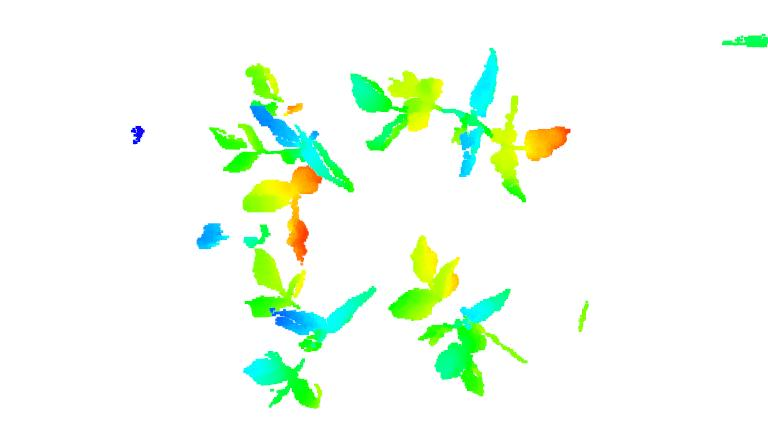mungbean: (344, 43, 572, 210), (205, 57, 353, 264), (383, 233, 532, 396), (240, 247, 378, 414)
